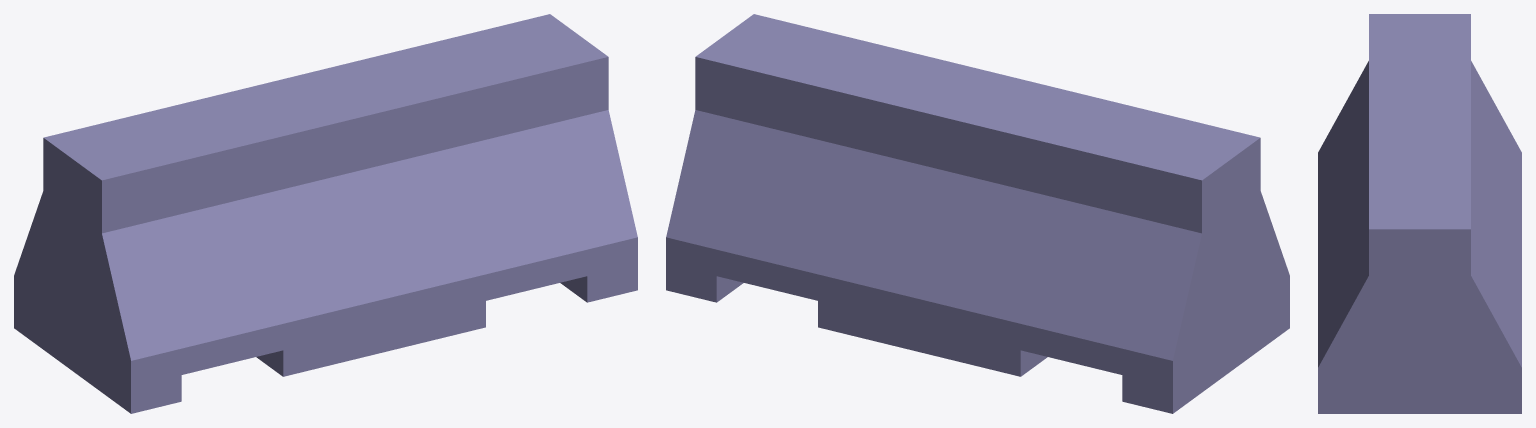
The model's file is RoadBlock.fbx.
3 views of the same model, side by side, from view 1: azimuth 30°, elevation 25°; view 2: azimuth 150°, elevation 25°; view 3: azimuth 270°, elevation 25° (orthographic). The views are drawn at different scales.
Visible parts, largest first — view 1: detail_roadBlock; view 2: detail_roadBlock; view 3: detail_roadBlock.
Boxes of the visible parts, bbox=[...] form: detail_roadBlock: bbox=[14, 14, 637, 413]; detail_roadBlock: bbox=[666, 14, 1289, 413]; detail_roadBlock: bbox=[1318, 14, 1521, 413].
Bounding box in the file's own units: 10 × 4 × 4.
